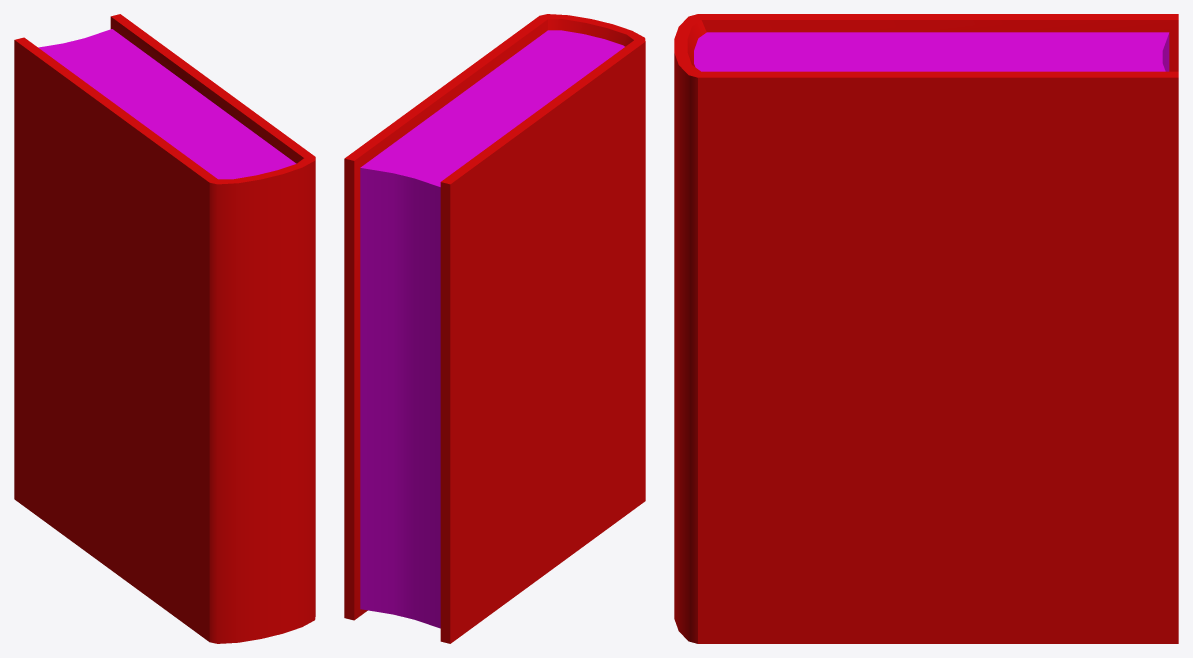
File: SM_Book4.fbx
3 views of the same model, side by side, from view 1: azimuth 30°, elevation 25°; view 2: azimuth 150°, elevation 25°; view 3: azimuth 270°, elevation 25° (orthographic). The views are drawn at different scales.
Visible parts, largest first — view 1: SM_Book4; view 2: SM_Book4; view 3: SM_Book4.
Boxes of the visible parts, x1,y1,x2,y2 form: SM_Book4: (14,14,315,643); SM_Book4: (344,14,645,643); SM_Book4: (674,14,1178,643).
Size of the model in its own units: 8.11 by 33.59 by 27.12.
